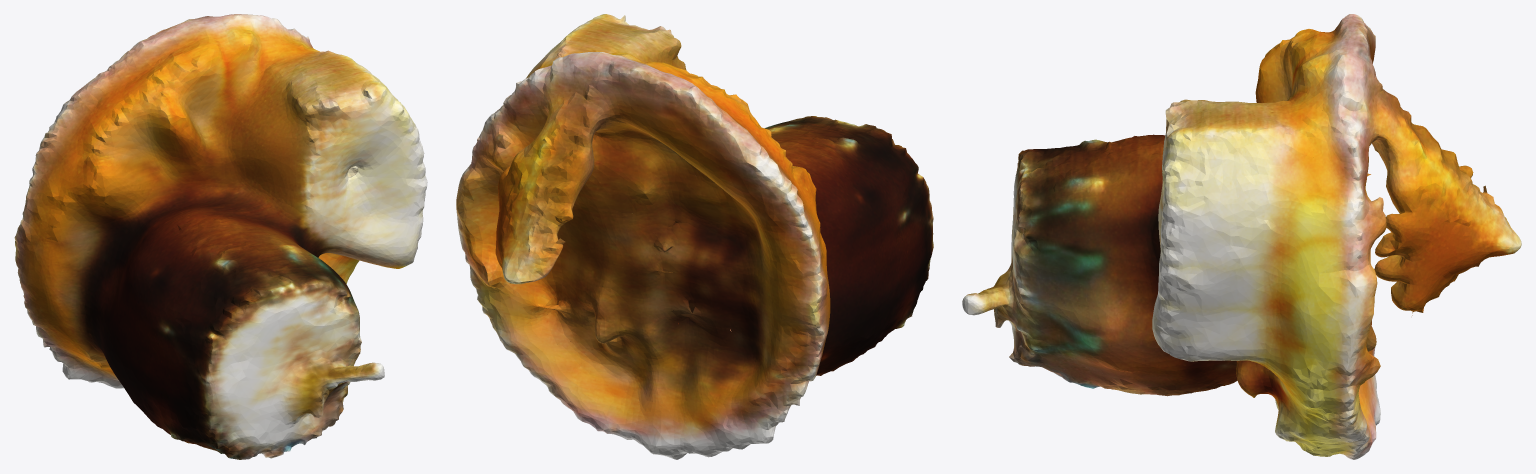
3 views of the same model, side by side, from view 1: azimuth 30°, elevation 25°; view 2: azimuth 150°, elevation 25°; view 3: azimuth 270°, elevation 25° (orthographic). The views are drawn at different scales.
Size of the model in its own units: 1.14 by 1.13 by 1.39.
1 material, 1 textured.
